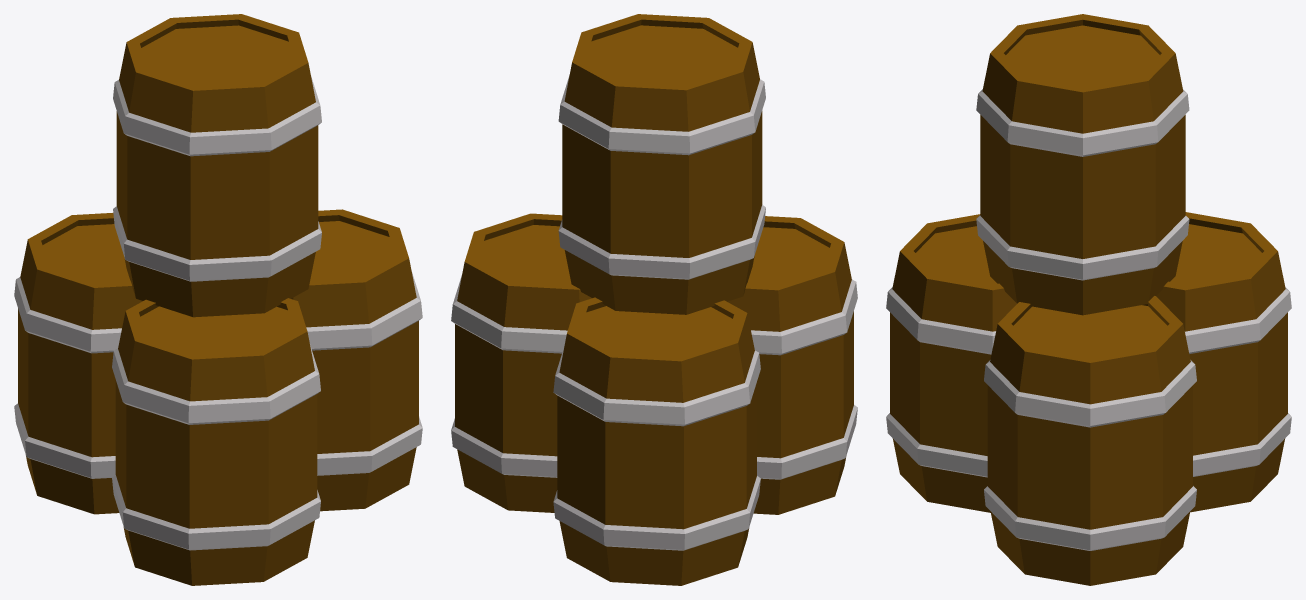
Rendered from mesh_barrel_pile.fbx.
3 views of the same model, side by side, from view 1: azimuth 30°, elevation 25°; view 2: azimuth 150°, elevation 25°; view 3: azimuth 270°, elevation 25° (orthographic).
Parts seen in each view (by area): view 1: Barrel.001; view 2: Barrel.001; view 3: Barrel.001.
Boxes of the visible parts, box(x1,y1,x2,y2) form: Barrel.001: box(14, 14, 422, 585); Barrel.001: box(451, 14, 857, 585); Barrel.001: box(886, 14, 1291, 585).
Size of the model in its own units: 1.19 by 1.51 by 1.25.
